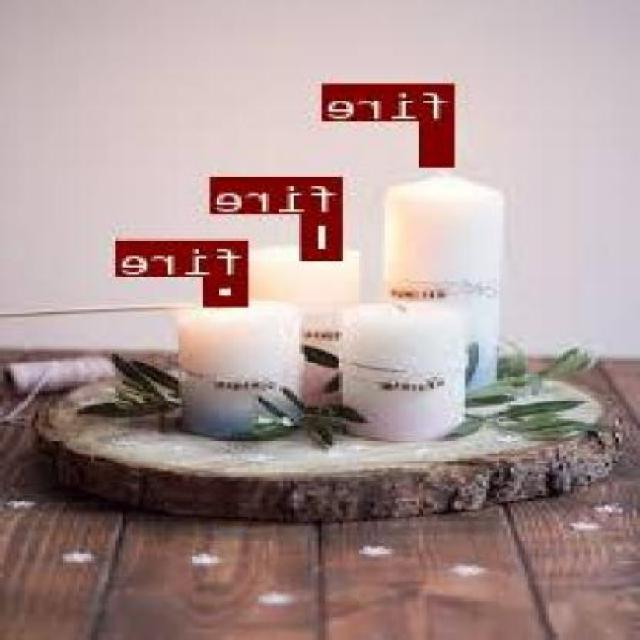fire: (304, 212, 346, 257), (424, 119, 456, 164), (208, 276, 250, 304)
